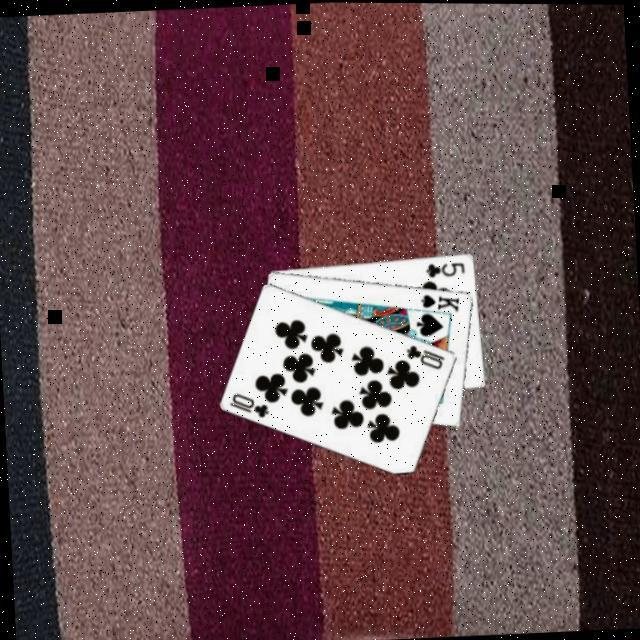10C: (226, 389, 272, 423), (402, 340, 448, 373)
5C: (423, 258, 468, 280)
KS: (417, 289, 462, 315)
